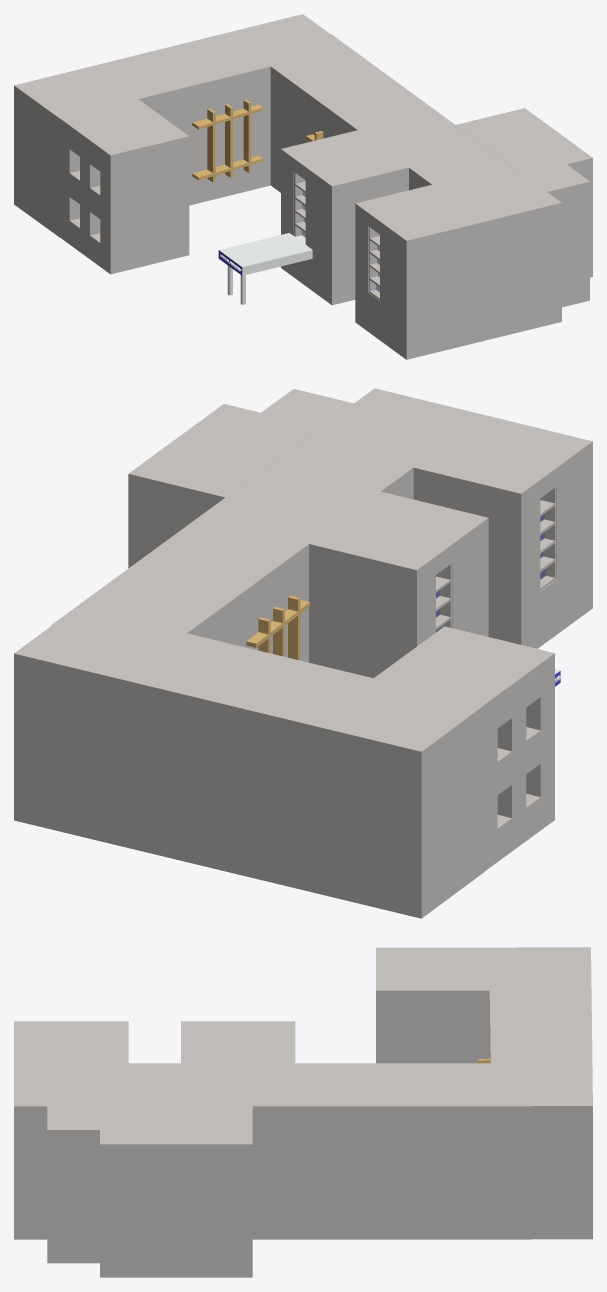
The model's file is chemical.glb.
The picture shows the model from 3 angles, top to bottom: view 1: azimuth 30°, elevation 25°; view 2: azimuth 150°, elevation 25°; view 3: azimuth 270°, elevation 25°; orthographic projection. The views are drawn at different scales.
Parts seen in each view (by area): view 1: Cube.003; view 2: Cube.003; view 3: Cube.003.
Boxes of the visible parts, x1,y1,x2,y2 form: Cube.003: (14, 14, 592, 359); Cube.003: (14, 388, 592, 918); Cube.003: (14, 947, 592, 1277).
Bounding box in the file's own units: 23.14 × 7.35 × 28.76.
